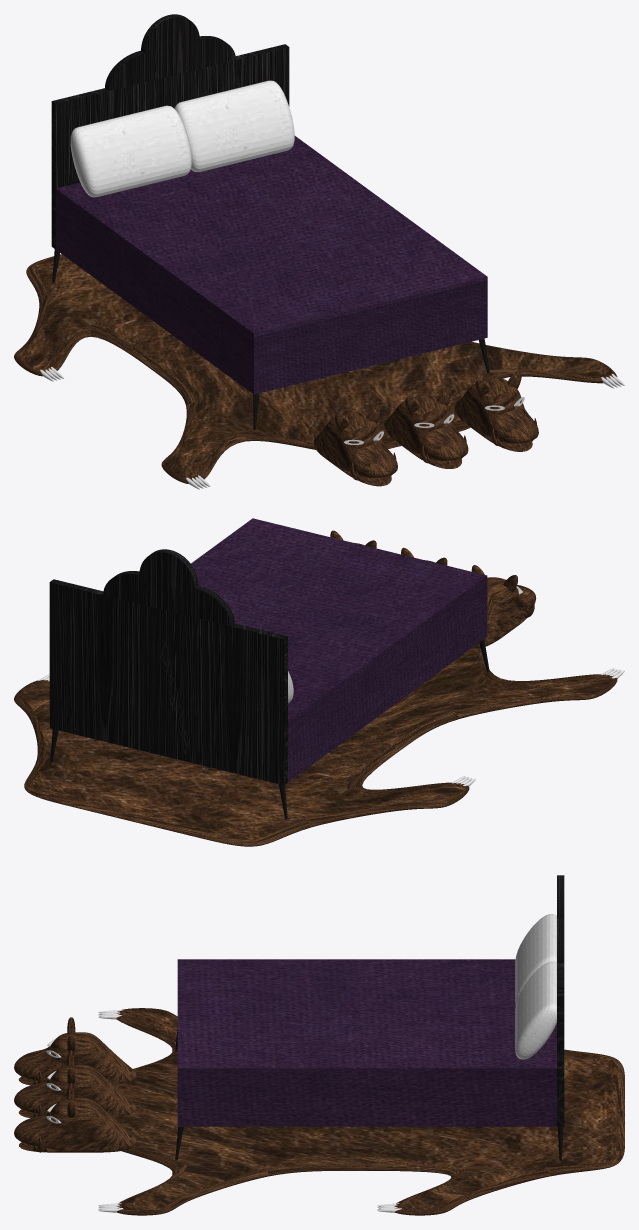
The model's file is cama.obj.
3 renders of one model, top to bottom at view 1: azimuth 30°, elevation 25°; view 2: azimuth 150°, elevation 25°; view 3: azimuth 270°, elevation 25°, orthographic. The views are drawn at different scales.
Parts seen in each view (by area): view 1: colchon, alfimbra, Cabecera, almohada, almohada2, cabeza1.004, cabeza1.003, cabeza1.002; view 2: Cabecera, colchon, alfimbra, cabeza1.004; view 3: colchon, alfimbra, cabeza1.003, cabeza1.004, cabeza1.002, almohada2, almohada, Cabecera.
Part boxes in pixels (x1,y1,x2,y2): colchon: [55, 136, 487, 394]; alfimbra: [14, 254, 617, 483]; Cabecera: [51, 14, 289, 249]; almohada: [70, 105, 191, 197]; almohada2: [174, 80, 294, 172]; cabeza1.004: [313, 405, 397, 486]; cabeza1.003: [454, 370, 538, 451]; cabeza1.002: [384, 387, 468, 468]; Cabecera: [49, 549, 287, 785]; colchon: [191, 518, 487, 782]; alfimbra: [14, 648, 617, 846]; cabeza1.004: [471, 565, 536, 648]; colchon: [177, 959, 556, 1126]; alfimbra: [113, 1008, 624, 1215]; cabeza1.003: [14, 1083, 136, 1152]; cabeza1.004: [14, 1017, 136, 1085]; cabeza1.002: [14, 1050, 136, 1118]; almohada2: [515, 962, 556, 1059]; almohada: [515, 914, 556, 1005]; Cabecera: [557, 875, 564, 1126].
Size of the model in its own units: 12.79 by 6.93 by 16.12.
